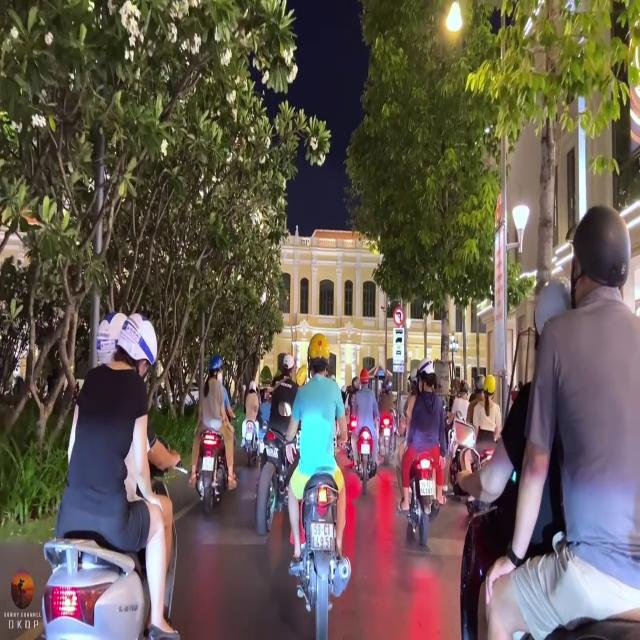bien_trang: (309, 520, 336, 552)
